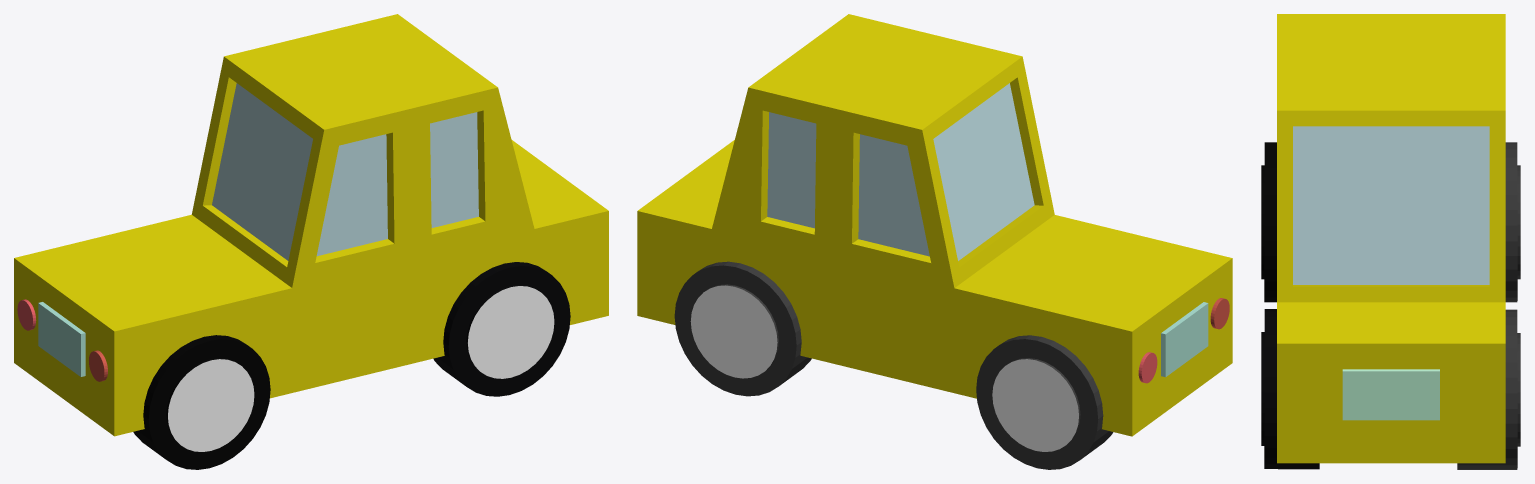
File: CAR2.fbx
The picture shows the model from 3 angles, left to right: view 1: azimuth 30°, elevation 25°; view 2: azimuth 150°, elevation 25°; view 3: azimuth 270°, elevation 25°; orthographic projection. The views are drawn at different scales.
Parts seen in each view (by area): view 1: Cube, Cylinder, Cylinder.001, Cube.001; view 2: Cube, Cylinder.002, Cylinder.003, Cube.001; view 3: Cube, Cube.002, Cylinder.003, Cylinder.001, Cylinder, Cylinder.002.
Boxes of the visible parts, <box> form: Cube: <box>14,14,608,436</box>; Cylinder: <box>133,335,270,469</box>; Cylinder.001: <box>433,262,570,396</box>; Cube.001: <box>38,302,85,376</box>; Cube: <box>637,14,1232,436</box>; Cylinder.002: <box>976,335,1113,469</box>; Cylinder.003: <box>674,261,811,396</box>; Cube.001: <box>1161,302,1208,377</box>; Cube: <box>1277,14,1505,463</box>; Cube.002: <box>1342,369,1439,420</box>; Cylinder.003: <box>1457,309,1520,469</box>; Cylinder.001: <box>1261,309,1319,469</box>; Cylinder: <box>1261,142,1276,302</box>; Cylinder.002: <box>1505,142,1520,302</box>.
Size of the model in its own units: 578 by 335 by 227.
